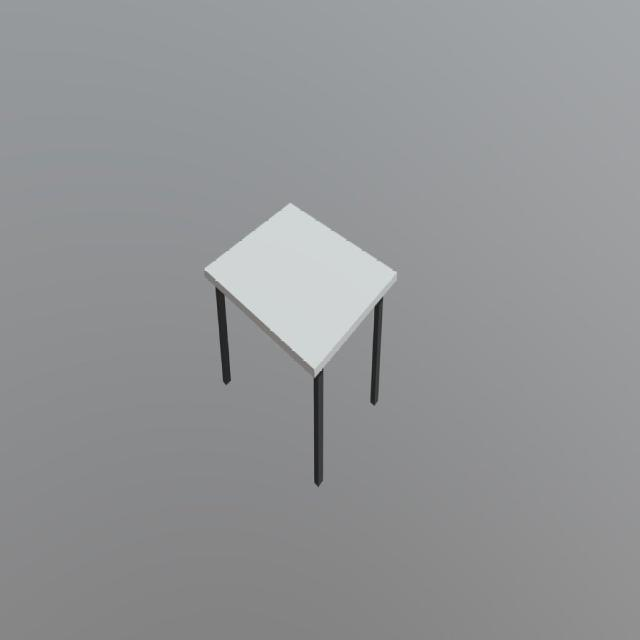table: (208, 199, 398, 485)
